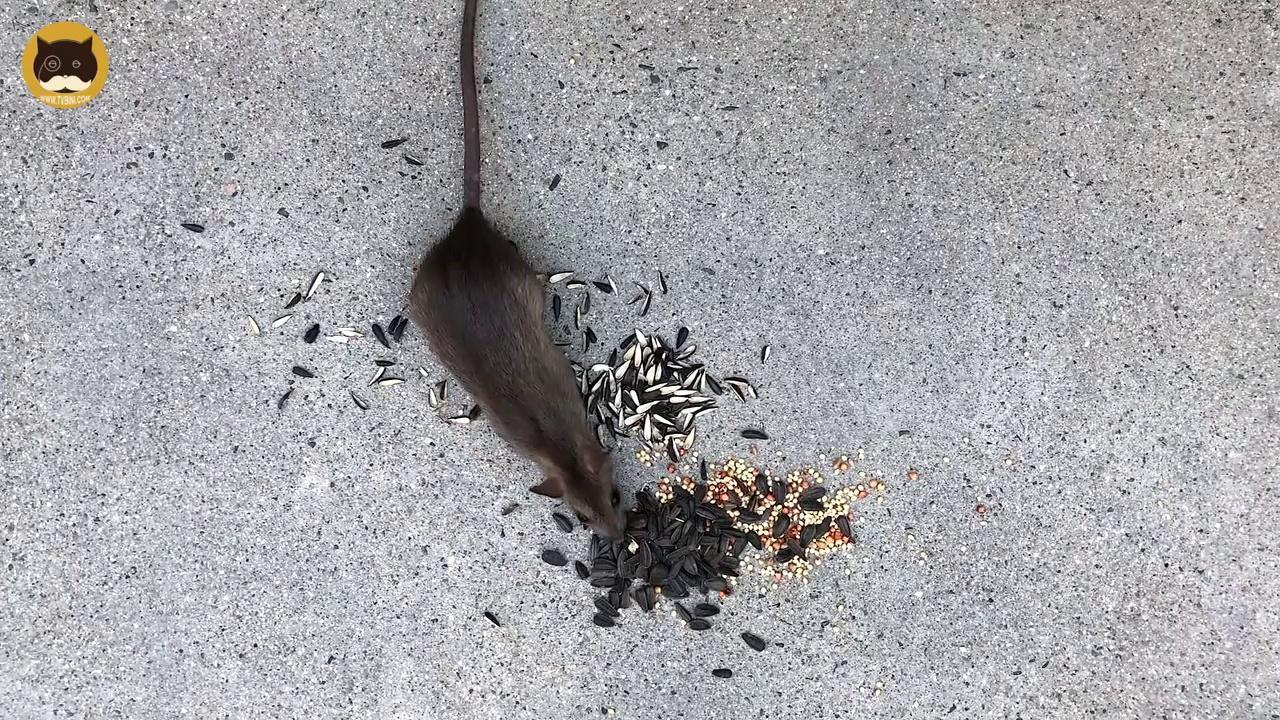rat: (410, 0, 624, 541)
